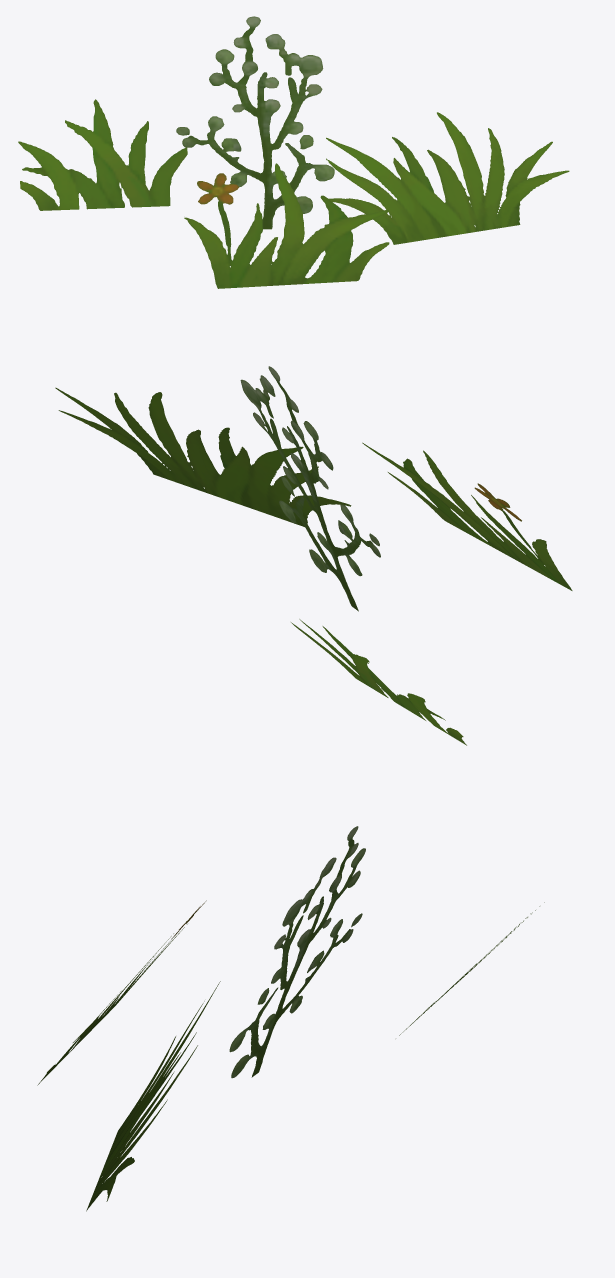
Rendered from grass_09.FBX.
3 renders of one model, top to bottom at view 1: azimuth 30°, elevation 25°; view 2: azimuth 150°, elevation 25°; view 3: azimuth 270°, elevation 25°, orthographic. The views are drawn at different scales.
Parts seen in each view (by area): view 1: 对象004; view 2: 对象004; view 3: 对象004.
Part boxes in pixels (left/top/right/bottom): 对象004: left=18, top=16, right=569, bottom=288; 对象004: left=55, top=366, right=572, bottom=745; 对象004: left=37, top=826, right=544, bottom=1211.
Size of the model in its own units: 1.18 by 0.4776 by 0.9579.
1 material, 1 textured.
